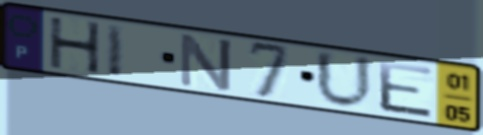7: (246, 38, 292, 102)
E: (375, 58, 437, 121)
H: (47, 15, 104, 76)
I: (103, 21, 127, 80)
N: (176, 30, 235, 94)
U: (313, 48, 377, 112)
